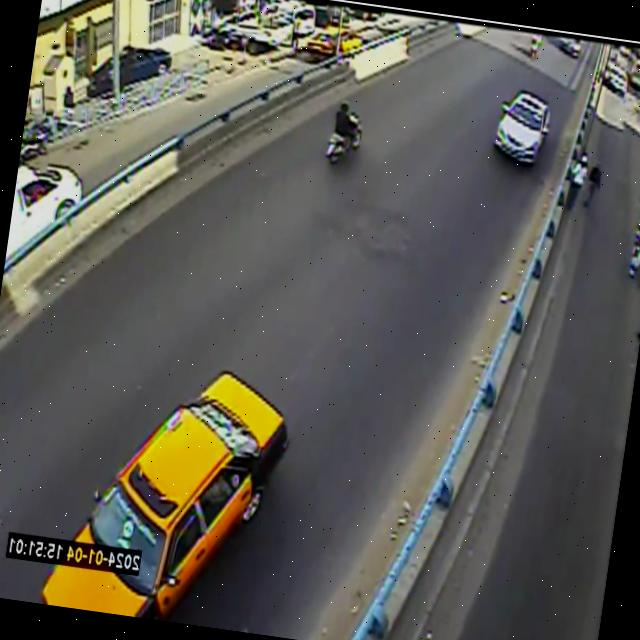car: (42, 374, 289, 620), (494, 91, 551, 164)
